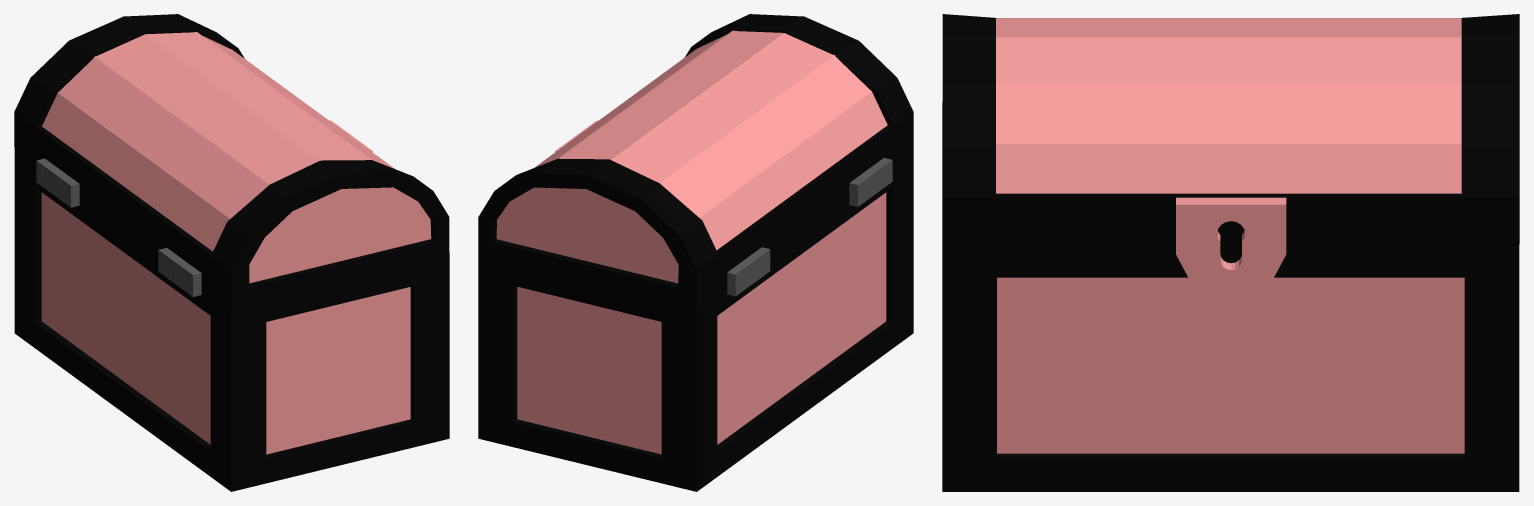
The model's file is Cofre Rojo.fbx.
3 renders of one model, left to right at view 1: azimuth 30°, elevation 25°; view 2: azimuth 150°, elevation 25°; view 3: azimuth 270°, elevation 25°, orthographic. The views are drawn at different scales.
Parts seen in each view (by area): view 1: Cube.046, Cube.047; view 2: Cube.046, Cube.047; view 3: Cube.046, Cube.047.
Part boxes in pixels (<box>): Cube.046: <box>14,148,449,491</box>; Cube.047: <box>14,14,449,305</box>; Cube.046: <box>478,147,913,491</box>; Cube.047: <box>478,14,913,305</box>; Cube.046: <box>942,102,1519,491</box>; Cube.047: <box>942,14,1519,290</box>.
Size of the model in its own units: 65.71 by 76.7 by 104.
